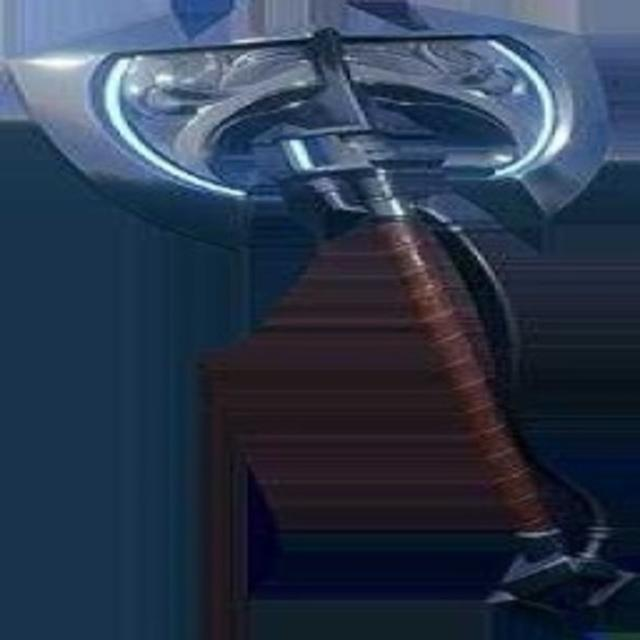ax: (5, 1, 638, 620)
